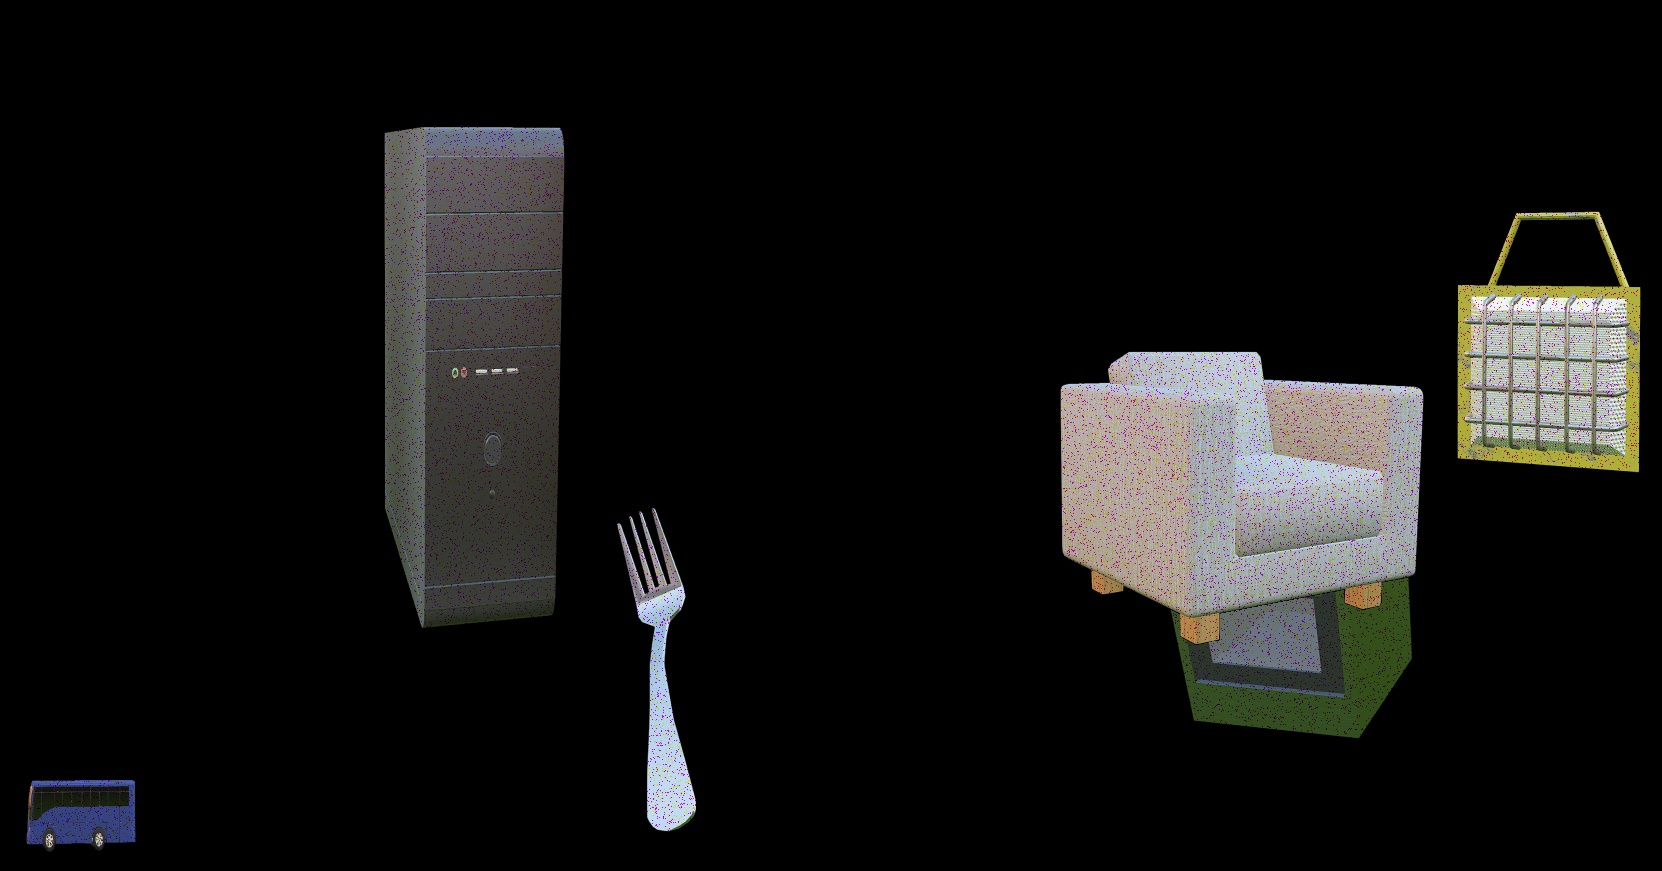bus: (26, 779, 136, 853)
lampara: (1457, 211, 1641, 473)
ordenador: (384, 126, 565, 629)
sofa: (1060, 351, 1424, 645)
tenedor: (616, 507, 697, 832)
